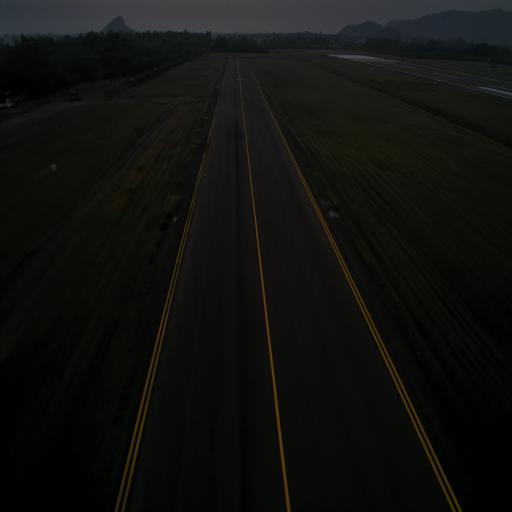on: (172, 212, 177, 220), (330, 206, 334, 214)
